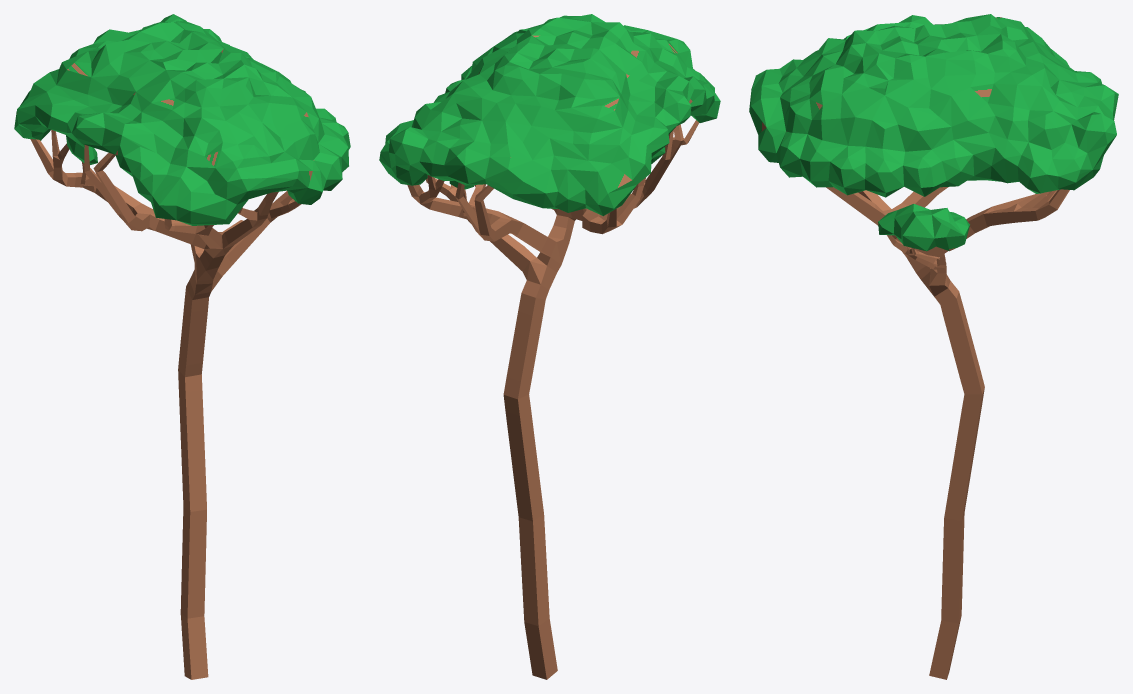
The model's file is TreeDion.fbx.
3 renders of one model, left to right at view 1: azimuth 30°, elevation 25°; view 2: azimuth 150°, elevation 25°; view 3: azimuth 270°, elevation 25°, orthographic.
Parts seen in each view (by area): view 1: Mball.167, Cube; view 2: Mball.167, Cube; view 3: Mball.167, Cube.
Boxes of the visible parts, <box> form: Mball.167: <box>14,14,350,225</box>; Cube: <box>30,129,301,679</box>; Mball.167: <box>379,14,720,216</box>; Cube: <box>407,120,698,679</box>; Mball.167: <box>749,14,1118,251</box>; Cube: <box>826,187,1069,679</box>.
Bounding box in the file's own units: 862 × 1917 × 1016.
2 materials, 2 textured.
